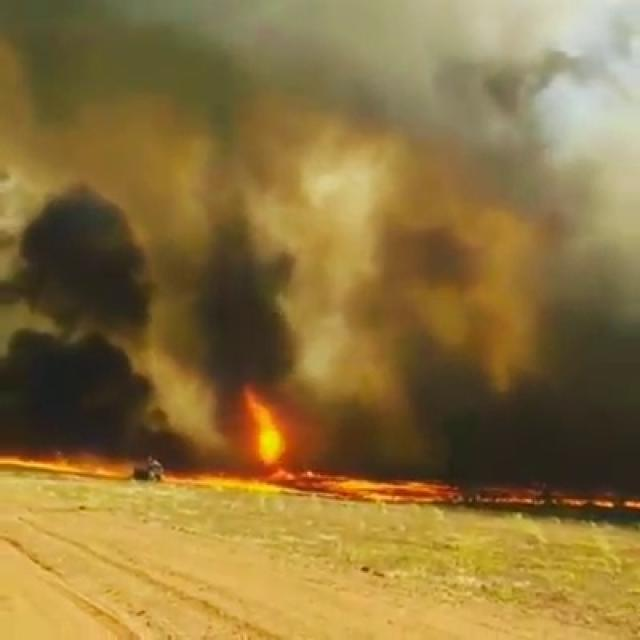Fire: (163, 464, 461, 504), (476, 487, 636, 508), (5, 451, 128, 477), (238, 390, 280, 460)
Smoke: (182, 162, 328, 382), (0, 332, 199, 452), (359, 220, 449, 356)
